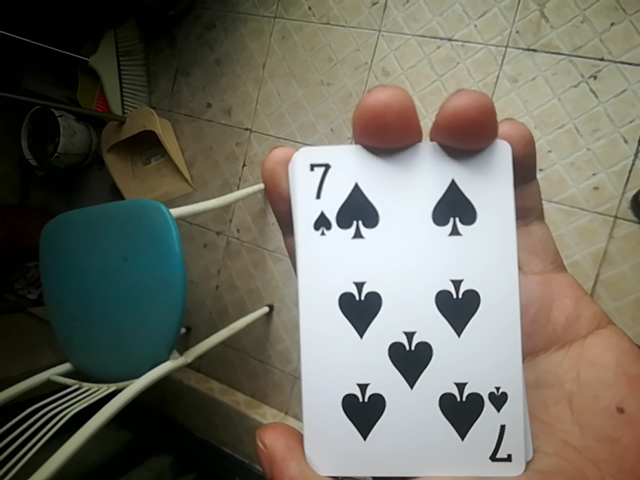ht 7: (299, 127, 532, 480)
